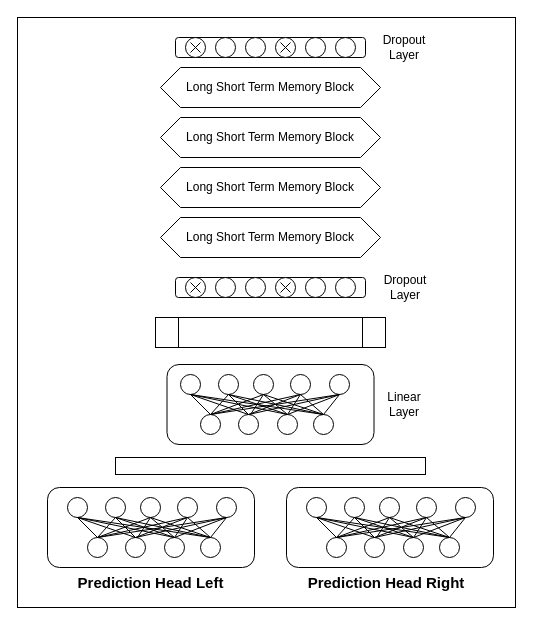
This 533x625 diagram has some shape labels left out. The centre of each missing label's shape, as x and y in pixels:
"PReLU Activation" goes at [270,465].
"Select Only N^th Time-Frame Features" goes at [270,332].
